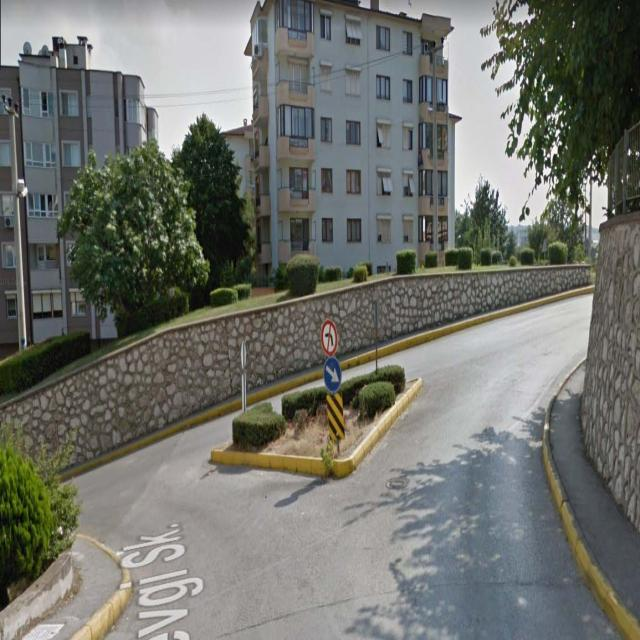soladonulmez: (320, 322, 338, 356)
